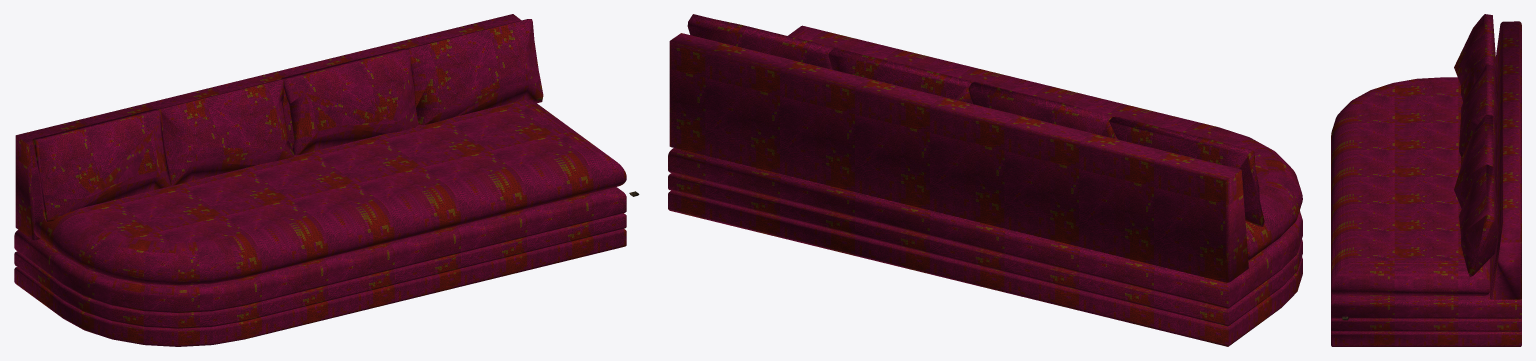
The model's file is Sofa.FBX.
3 renders of one model, left to right at view 1: azimuth 30°, elevation 25°; view 2: azimuth 150°, elevation 25°; view 3: azimuth 270°, elevation 25°, orthographic. The views are drawn at different scales.
Parts seen in each view (by area): view 1: Cushion; view 2: Cushion; view 3: Cushion.
Part boxes in pixels (bbox=[...]): Cushion: bbox=[14, 14, 639, 346]; Cushion: bbox=[668, 14, 1302, 346]; Cushion: bbox=[1331, 14, 1521, 346].
Size of the model in its own units: 312 by 96.01 by 120.
Materials: 2 (2 with a texture image).
